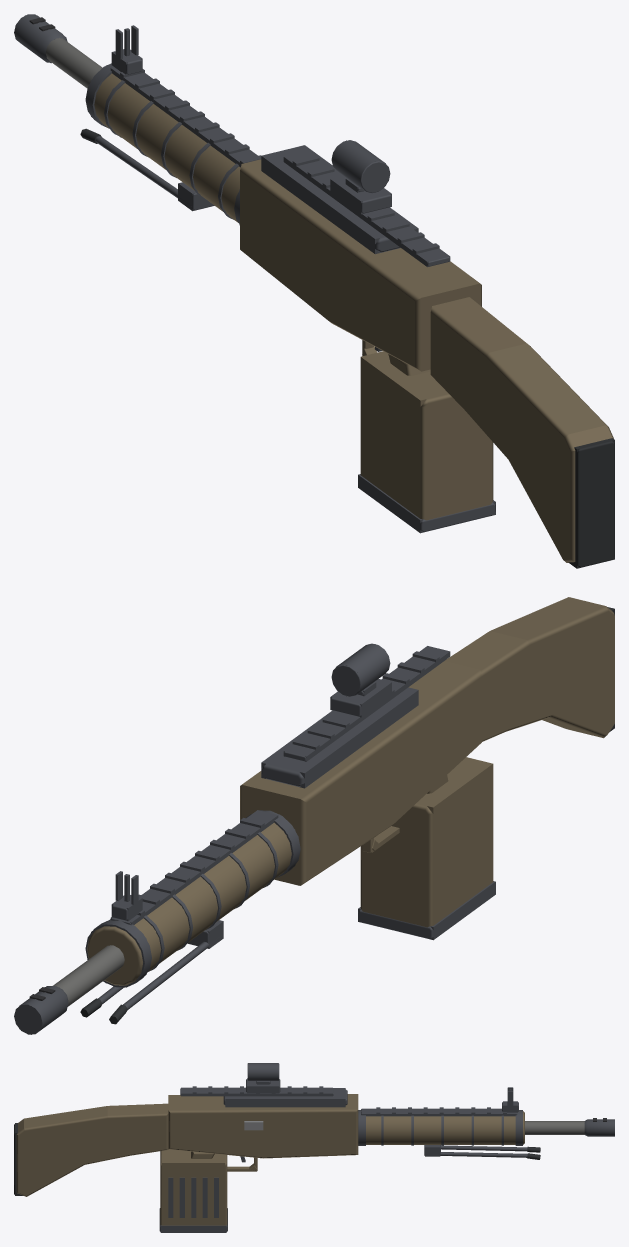
File: l_belt.glb
3 renders of one model, top to bottom at view 1: azimuth 30°, elevation 25°; view 2: azimuth 150°, elevation 25°; view 3: azimuth 270°, elevation 25°, orthographic. The views are drawn at different scales.
Visible parts, largest first — view 1: L0, L1; view 2: L0, L1; view 3: L0, L1.
Part boxes in pixels (x1,y1,x2,y2): L0: (14,14,614,567); L1: (15,15,614,568); L0: (14,597,614,1034); L1: (14,607,614,1034); L0: (14,1063,614,1231); L1: (15,1063,614,1232).
Bounding box in the file's own units: 0.073 × 0.278 × 0.9488.
